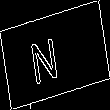N_N: (38, 26, 72, 84)
